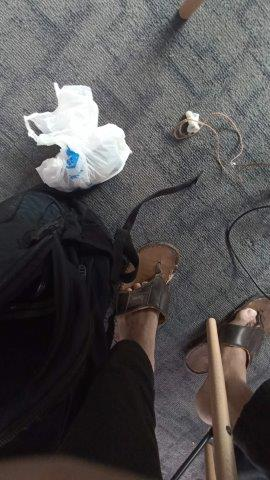plastik: (24, 84, 131, 192)
